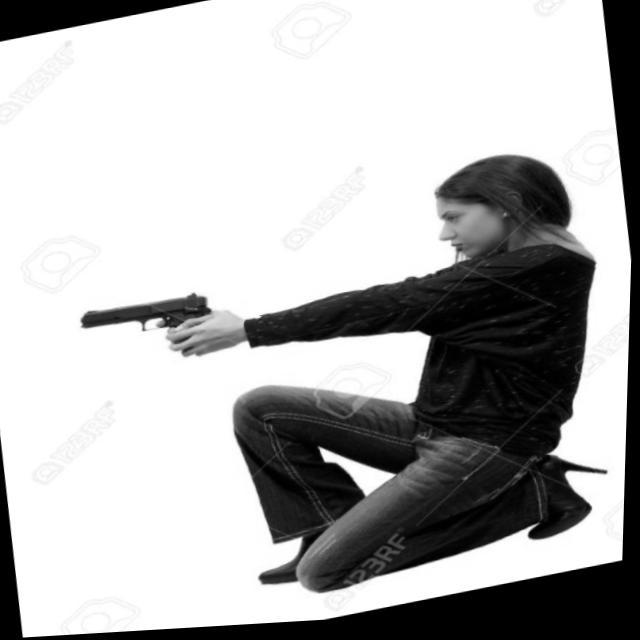weapon: (139, 141, 636, 626), (78, 289, 220, 373)
